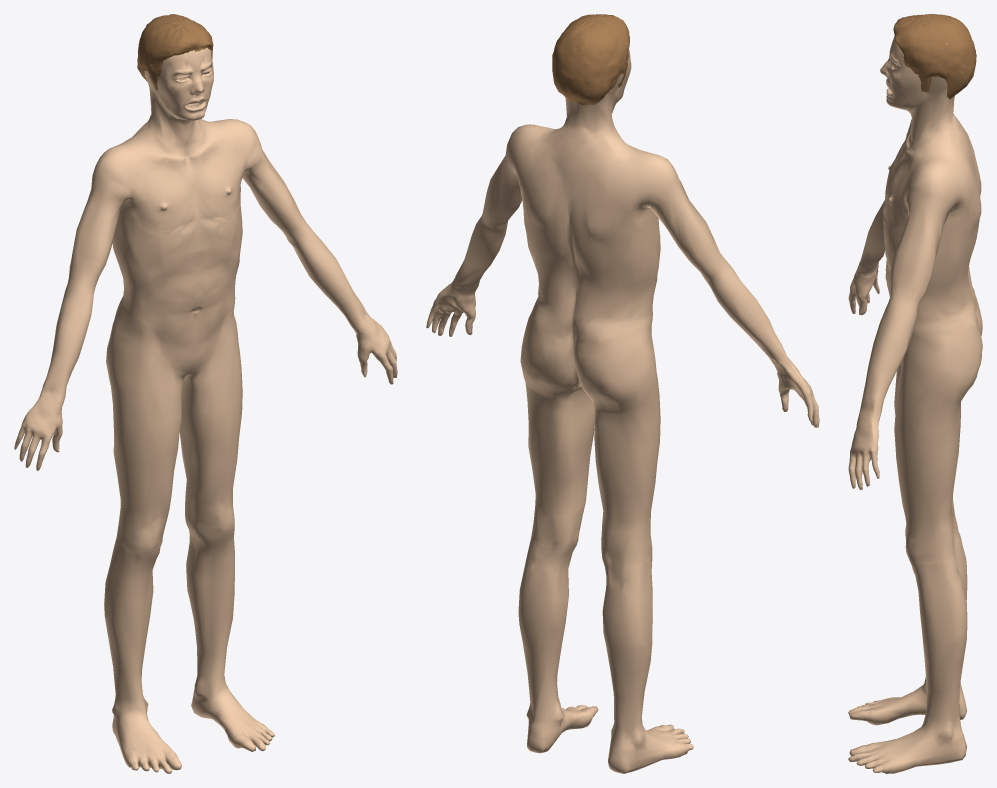
File: pessoa.obj
3 views of the same model, side by side, from view 1: azimuth 30°, elevation 25°; view 2: azimuth 150°, elevation 25°; view 3: azimuth 270°, elevation 25° (orthographic). The views are drawn at different scales.
Parts seen in each view (by area): view 1: maleSkinBo_Body, hair3_Lashes1; view 2: maleSkinBo_Body, hair3_Lashes1; view 3: maleSkinBo_Body, hair3_Lashes1.
Part boxes in pixels (x1,y1,x2,y2): maleSkinBo_Body: (14, 47, 397, 773); hair3_Lashes1: (137, 14, 213, 90); maleSkinBo_Body: (426, 50, 819, 773); hair3_Lashes1: (552, 14, 629, 105); maleSkinBo_Body: (848, 35, 982, 773); hair3_Lashes1: (893, 14, 976, 98).
Bounding box in the file's own units: 103 × 187 × 31.47.
